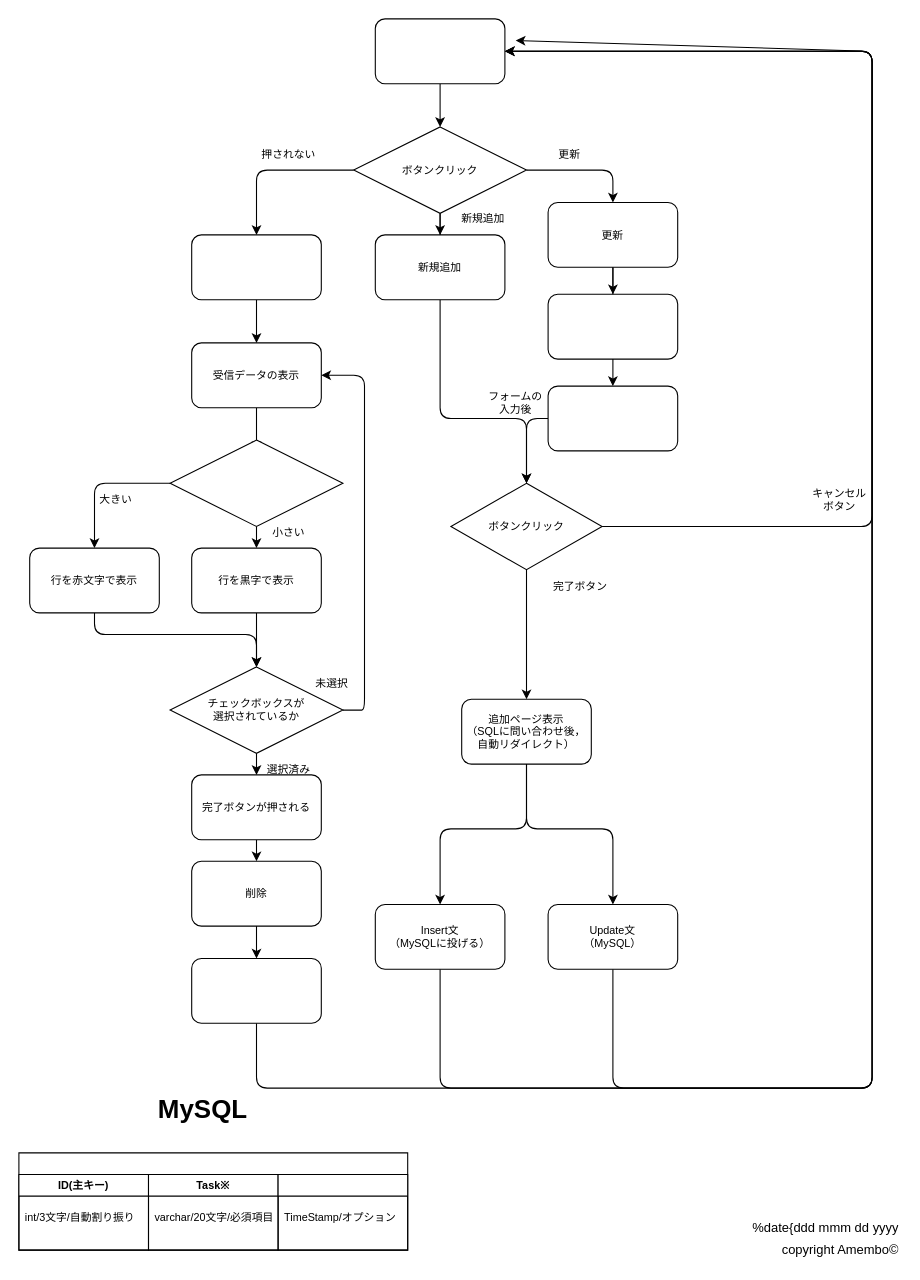
The diagram is 920 pixels wide and 1280 high, and some of its shapes have lost their labels. The shapes that lost their labels are listed below. From the top down, each one's box as (x1, y1, x2, y2) in pixels, then its label:
(374, 18, 505, 84): デフォルトページの表示
(191, 234, 321, 300): Select文 （MySQL）
(547, 293, 678, 359): 列データの情報を取得
(547, 385, 678, 451): 列データを事前に入力 （フォーム）
(169, 439, 343, 526): 現在時刻が Deadlineよりも大きいか
(191, 957, 321, 1023): Delete文 （MySQL）
(18, 1152, 408, 1250): Todo
(277, 1173, 408, 1250): deadline
